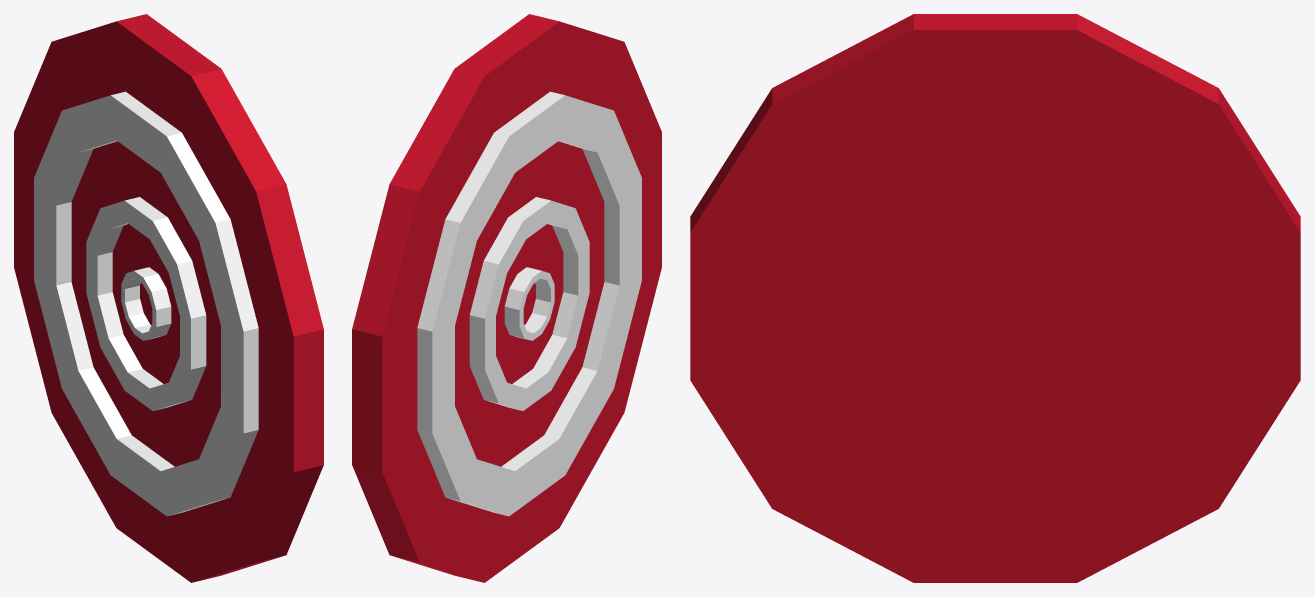
The model's file is target.gltf.
3 renders of one model, left to right at view 1: azimuth 30°, elevation 25°; view 2: azimuth 150°, elevation 25°; view 3: azimuth 270°, elevation 25°, orthographic. The views are drawn at different scales.
Visible parts, largest first — view 1: cylinder; view 2: cylinder; view 3: cylinder.
Boxes of the visible parts, box(x1,y1,x2,y2) form: cylinder: box(14, 14, 323, 582); cylinder: box(352, 14, 661, 582); cylinder: box(690, 14, 1300, 582).
Size of the model in its own units: 0.0938 by 1 by 1.
Materials: 2 (2 with a texture image).
